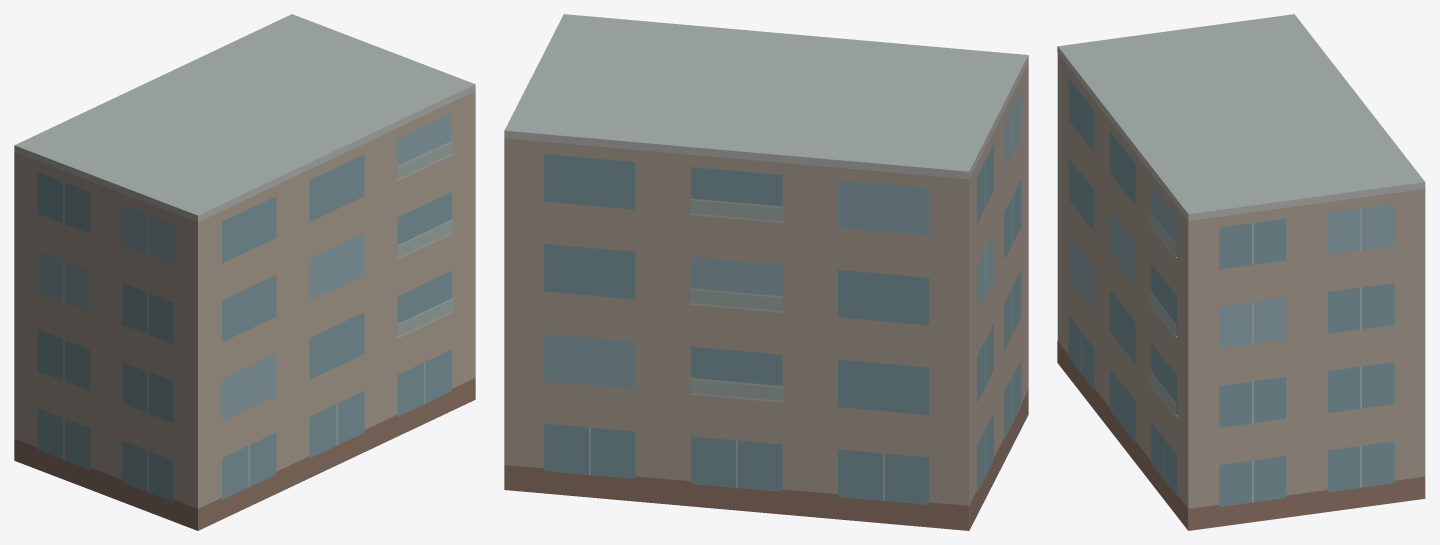
File: survey-upis-32534901.glb
The picture shows the model from 3 angles, left to right: view 1: azimuth 30°, elevation 25°; view 2: azimuth 150°, elevation 25°; view 3: azimuth 270°, elevation 25°; orthographic projection. The views are drawn at different scales.
Parts seen in each view (by area): view 1: survey-upis-32534901.tmp; view 2: survey-upis-32534901.tmp; view 3: survey-upis-32534901.tmp.
Boxes of the visible parts, left/top/right/bottom form: survey-upis-32534901.tmp: left=14, top=14, right=475, bottom=530; survey-upis-32534901.tmp: left=504, top=14, right=1028, bottom=530; survey-upis-32534901.tmp: left=1057, top=14, right=1425, bottom=530.
Size of the model in its own units: 15.51 by 11.43 by 12.04.
